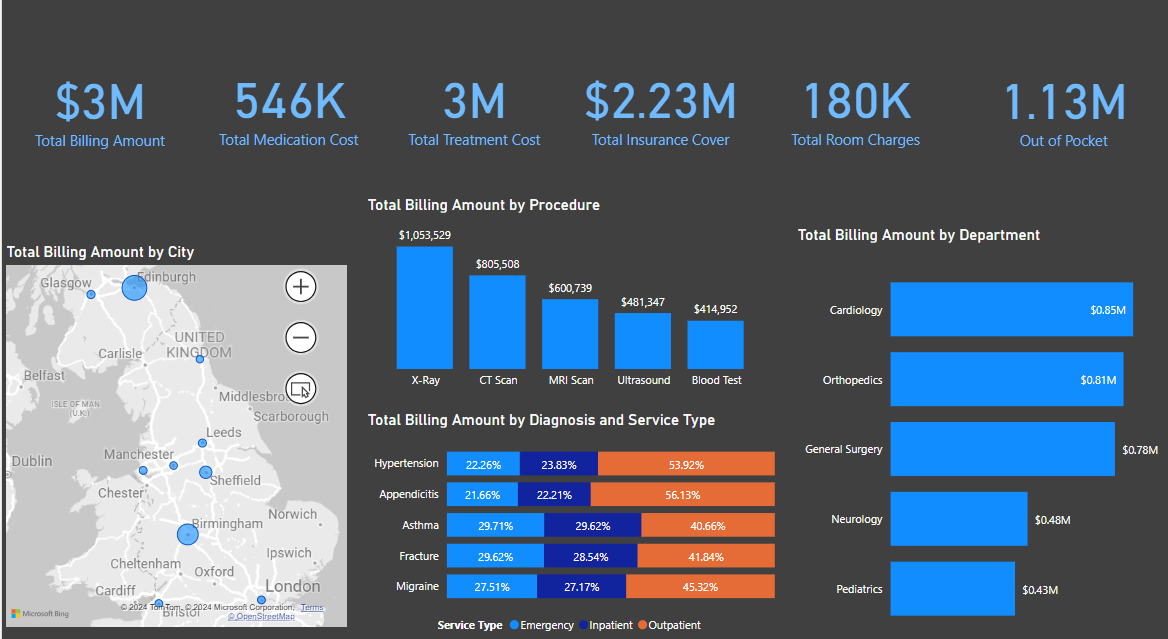

What the dashboard file says about the page in this screenshot:
{"tool":"powerbi","page":{"name":"Page 2","canvas":[1280,720],"ordinal":1},"visuals":[{"type":"card","title":"Billing Amount","fields":{"Values":["Dax Calculation.Total Billing Amount"]},"box":[0,74.1,215.4,111.1],"z":0},{"type":"card","fields":{"Values":["Dax Calculation.Total Medication Cost"]},"box":[198.9,74.1,198.9,111.1],"z":1000},{"type":"card","fields":{"Values":["Dax Calculation.Total Treatment Cost"]},"box":[414.3,74.1,208.5,111.1],"z":2000},{"type":"card","fields":{"Values":["Dax Calculation.Total Insurance Cover"]},"box":[622.9,74.1,200.3,111.1],"z":3000},{"type":"card","fields":{"Values":["Dax Calculation.Total Room Charges"]},"box":[823.2,74.1,227.7,111.1],"z":4000},{"type":"card","fields":{"Values":["Dax Calculation.Out of Pocket"]},"box":[1050.9,74.1,229.1,116.6],"z":5000},{"type":"map","fields":{"Category":["cities.City"],"Size":["Dax Calculation.Total Billing Amount"]},"box":[23.5,273.4,359,426.7],"z":6000},{"type":"clusteredColumnChart","fields":{"Category":["procedures.Procedure"],"Y":["Dax Calculation.Total Billing Amount"]},"box":[397.9,189.3,456.8,220.9],"z":7000},{"type":"hundredPercentStackedBarChart","fields":{"Y":["Dax Calculation.Total Billing Amount"],"Category":["diagnoses.Diagnosis"],"Series":["visits.Service Type"]},"box":[397.9,432.2,456.8,288.1],"z":7001},{"type":"clusteredBarChart","fields":{"Y":["Dax Calculation.Total Billing Amount"],"Category":["departments.Department"]},"box":[854.7,252.4,411.6,447.2],"z":7002},{"type":"textbox","box":[203,0,807.8,85.6],"z":7003}]}

Visuals, with their boxes in screenshot pixels (x1, y1, x2, y2), scaled from the page's 1280x720 canvas onto the 1168x639 screenshot:
"Billing Amount" card: [x1=0, y1=66, x2=197, y2=164]
card - Dax Calculation.Total Medication Cost: [x1=181, y1=66, x2=363, y2=164]
card - Dax Calculation.Total Treatment Cost: [x1=378, y1=66, x2=568, y2=164]
card - Dax Calculation.Total Insurance Cover: [x1=568, y1=66, x2=751, y2=164]
card - Dax Calculation.Total Room Charges: [x1=751, y1=66, x2=959, y2=164]
card - Dax Calculation.Out of Pocket: [x1=959, y1=66, x2=1167, y2=169]
map - cities.City x Dax Calculation.Total Billing Amount: [x1=21, y1=243, x2=349, y2=621]
clusteredColumnChart - procedures.Procedure x Dax Calculation.Total Billing Amount: [x1=363, y1=168, x2=780, y2=364]
hundredPercentStackedBarChart - Dax Calculation.Total Billing Amount x diagnoses.Diagnosis: [x1=363, y1=384, x2=780, y2=638]
clusteredBarChart - Dax Calculation.Total Billing Amount x departments.Department: [x1=780, y1=224, x2=1155, y2=621]
textbox: [x1=185, y1=0, x2=922, y2=76]
